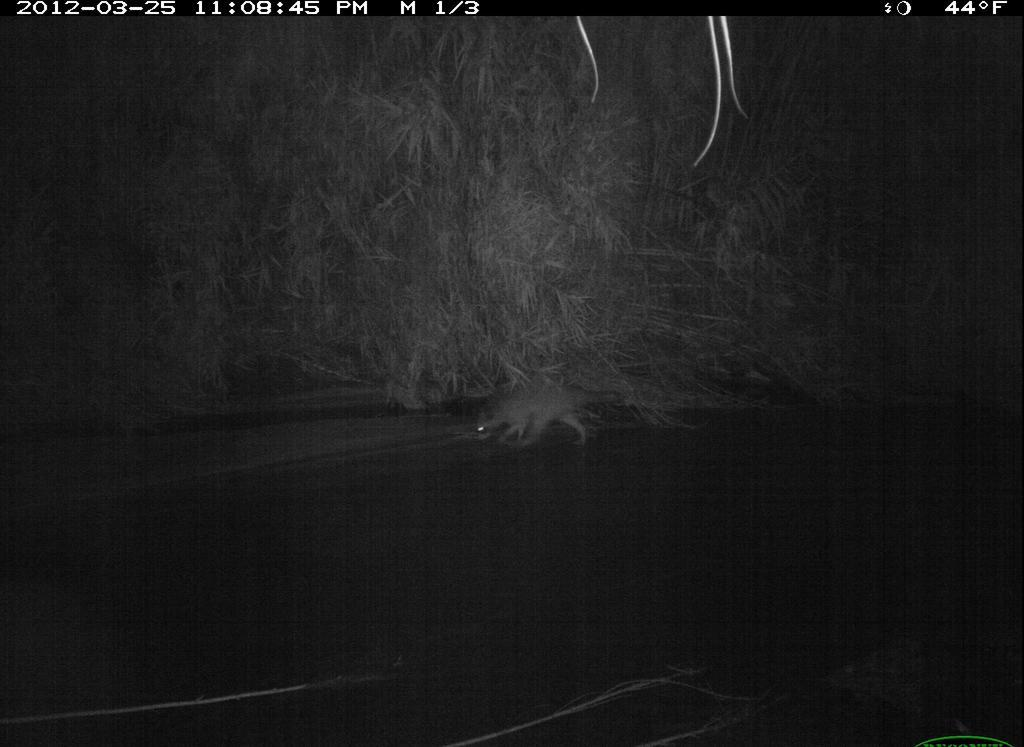raccoon: (446, 359, 628, 474)
